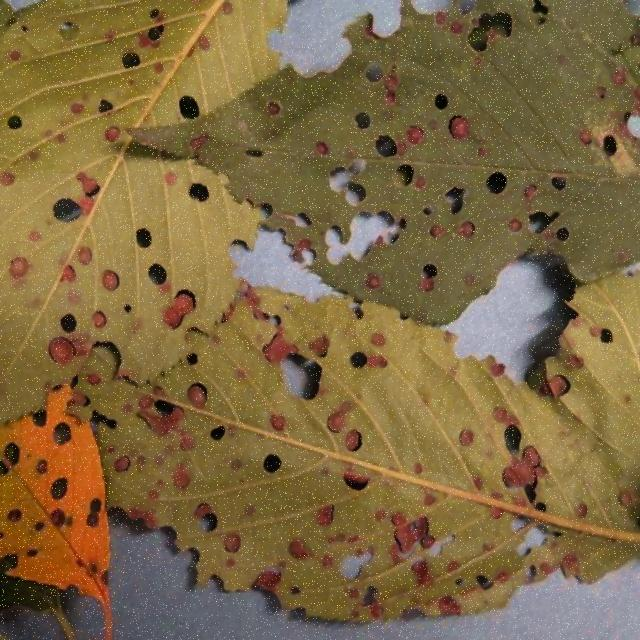shot_hole: (59, 301, 634, 615), (249, 0, 640, 317), (0, 0, 247, 313)
